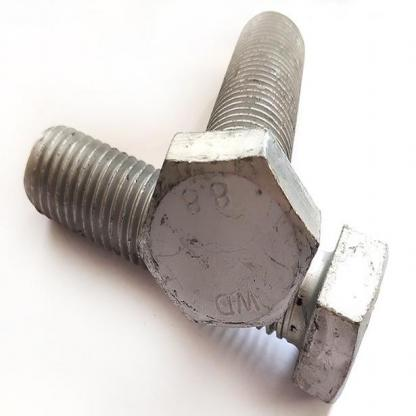FOD: (21, 119, 392, 405), (135, 8, 322, 334)
